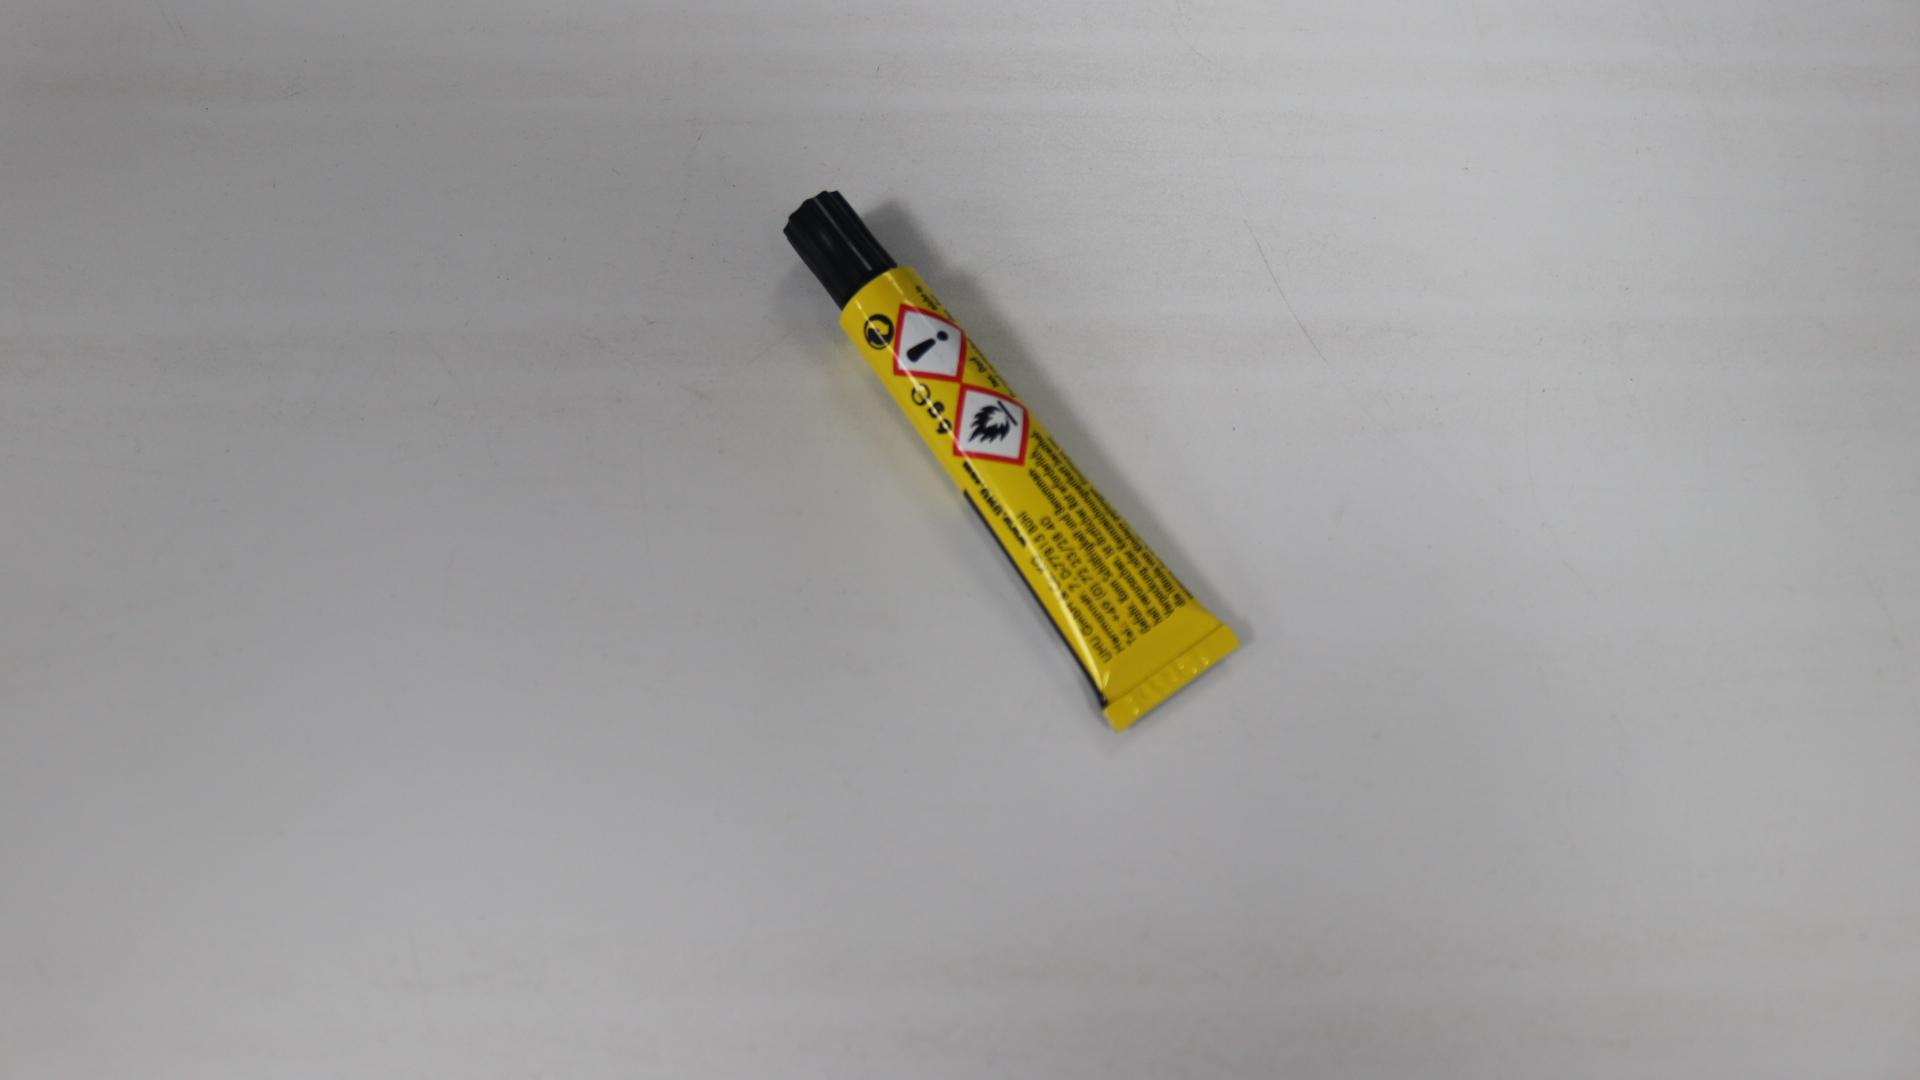Head: (832, 239, 846, 251)
Tail: (1162, 674, 1178, 691)
Tube: (784, 189, 1242, 733)
